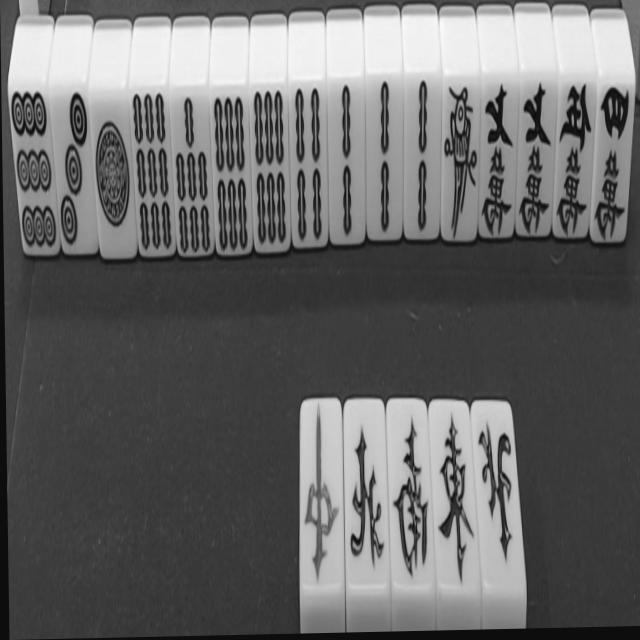east: (430, 400, 477, 592)
f4: (382, 394, 528, 593)
m4: (592, 77, 634, 249)
m5: (554, 78, 595, 230)
m7: (516, 72, 558, 244), (479, 87, 518, 244)
north: (477, 394, 527, 591), (344, 398, 390, 585)
s1: (443, 79, 479, 239)
s2: (329, 80, 364, 240), (366, 80, 402, 235), (405, 74, 438, 237)
s4: (289, 75, 327, 244)
s6: (212, 83, 250, 261), (252, 80, 289, 245)
s7: (172, 87, 213, 262)
s9: (131, 86, 175, 261)
south: (388, 401, 433, 583)
t1: (92, 93, 135, 257)
t3: (51, 84, 94, 250)
t9: (11, 93, 58, 248)
zhong: (302, 401, 345, 588)
